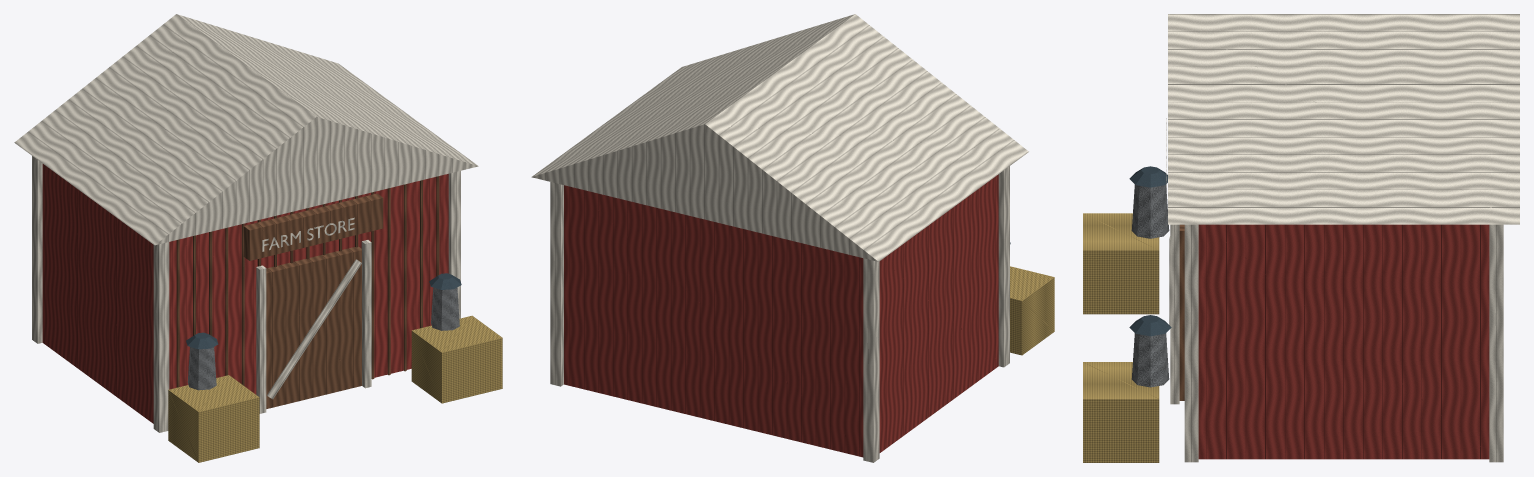
File: farm_store.glb
3 renders of one model, left to right at view 1: azimuth 30°, elevation 25°; view 2: azimuth 150°, elevation 25°; view 3: azimuth 270°, elevation 25°, orthographic. The views are drawn at different scales.
Parts seen in each view (by area): view 1: roof, barn, door, hay_bale.001, hay_bale, wooden_sign, corner_trim, corner_trim.001, door_trim, door_trim.001, corner_trim.002, door_brace (+9 smaller); view 2: barn, roof, corner_trim.001, hay_bale, corner_trim.003, corner_trim; view 3: roof, barn, hay_bale, hay_bale.001, corner_trim.003, corner_trim.002, door_trim.001, milk_can.001, milk_can, door, can_lid.001, can_lid.
Boxes of the visible parts, x1,y1,x2,y2 form: roof: (14, 14, 478, 245); barn: (42, 164, 448, 423); door: (266, 246, 361, 408); hay_bale.001: (411, 315, 502, 403); hay_bale: (168, 375, 259, 462); wooden_sign: (243, 193, 383, 260); corner_trim: (153, 242, 169, 432); corner_trim.001: (32, 156, 42, 343); door_trim: (256, 265, 266, 413); door_trim.001: (361, 240, 371, 388); corner_trim.002: (448, 171, 460, 318); door_brace: (267, 259, 361, 399); barn: (564, 174, 998, 457); roof: (531, 14, 1028, 261); corner_trim.001: (863, 258, 879, 462); hay_bale: (1010, 266, 1054, 355); corner_trim.003: (550, 182, 563, 386); corner_trim: (998, 166, 1009, 367); roof: (1168, 14, 1519, 224); barn: (1198, 224, 1489, 459); hay_bale: (1083, 213, 1159, 314); hay_bale.001: (1083, 362, 1159, 462); corner_trim.003: (1489, 224, 1503, 462); corner_trim.002: (1184, 224, 1198, 462); door_trim.001: (1170, 224, 1179, 404); milk_can.001: (1131, 333, 1169, 387); milk_can: (1131, 184, 1169, 238); door: (1179, 224, 1184, 400); can_lid.001: (1129, 315, 1171, 336); can_lid: (1129, 166, 1167, 187).
Size of the model in its own units: 4 by 3.35 by 3.72.
Materials: 6 (6 with a texture image).
